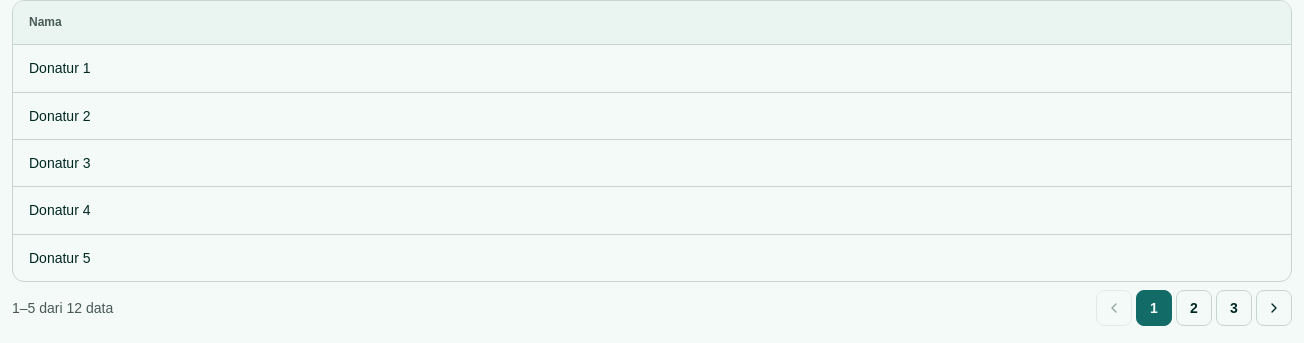
Test: ResourceTable pagination › memecah baris panjang menjadi halaman
This screenshot has width=1304, height=343.
Expected: the text "Donatur 1" is shown, [13, 45, 1291, 92]
Expected: the text "Donatur 6" is not shown
Click the button named "Halaman berikutnya".
click(1274, 308)  # box [1256, 290, 1292, 326]
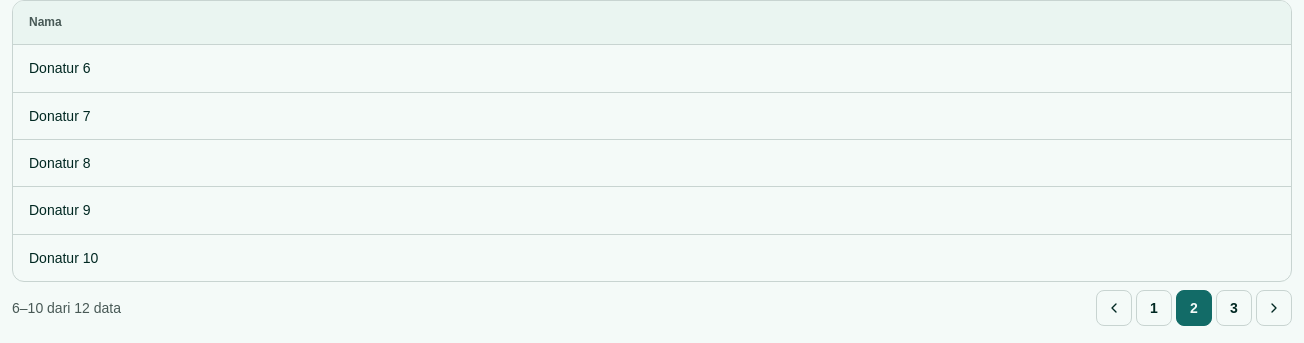
Expected: the text "Donatur 6" is shown, [13, 45, 1291, 92]
Click the button "3".
click(1234, 308)  # box [1216, 290, 1252, 326]
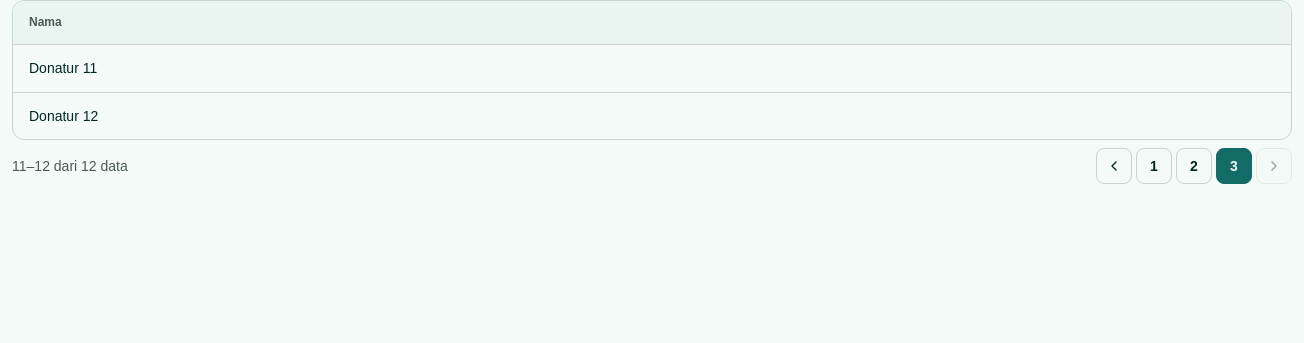
Expected: the text "Donatur 12" is shown, [13, 92, 1291, 139]
